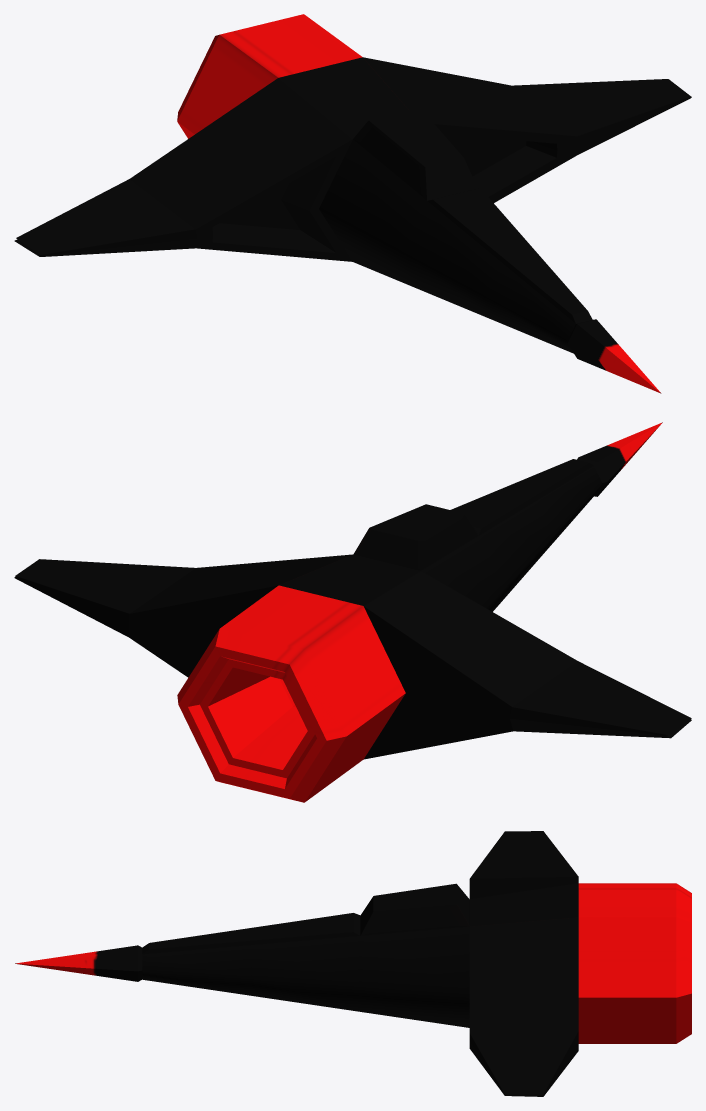
File: Enemy1.fbx
3 renders of one model, top to bottom at view 1: azimuth 30°, elevation 25°; view 2: azimuth 150°, elevation 25°; view 3: azimuth 270°, elevation 25°, orthographic. The views are drawn at different scales.
Parts seen in each view (by area): view 1: pCone3; view 2: pCone3; view 3: pCone3.
Part boxes in pixels (x1,y1,x2,y2): pCone3: (14,14,691,393); pCone3: (14,422,691,802); pCone3: (15,831,691,1096).
Size of the model in its own units: 7.76 by 1.82 by 8.4.
